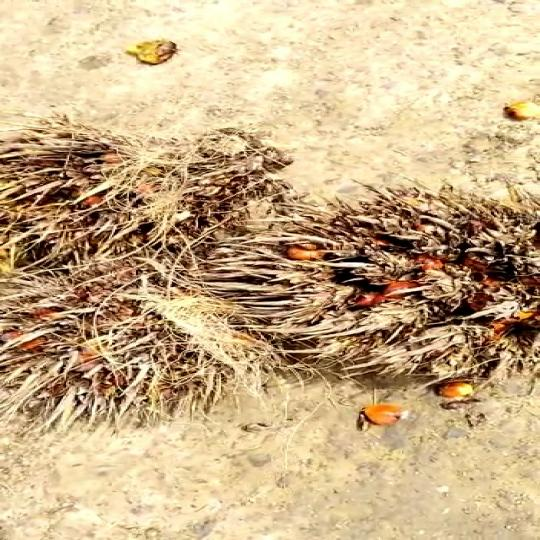terlalu masak: (206, 205, 540, 378), (0, 123, 298, 273), (0, 256, 235, 417)
